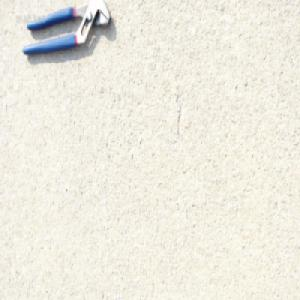Pliers: (21, 1, 113, 57)
